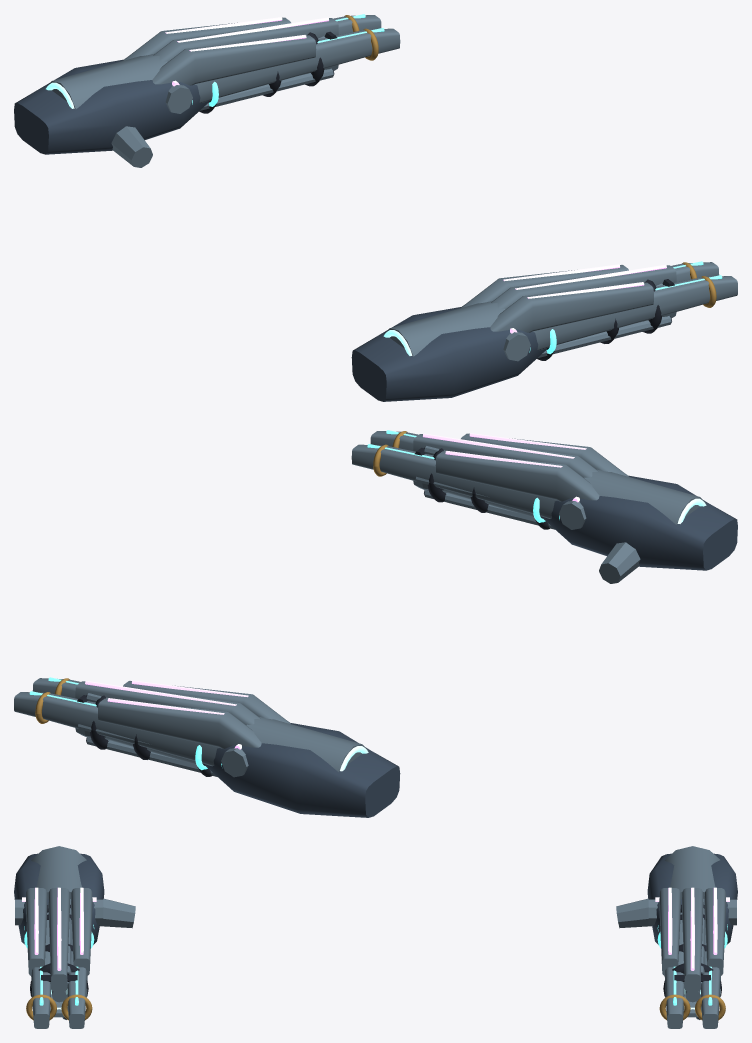
Rendered from mount.glb.
3 renders of one model, top to bottom at view 1: azimuth 30°, elevation 25°; view 2: azimuth 150°, elevation 25°; view 3: azimuth 270°, elevation 25°, orthographic. The views are drawn at different scales.
Parts seen in each view (by area): view 1: m_heavy Fitting gunmetal, m_array Brushed fitting edges, m_siege Brushed fitting edges, m_rotary Brushed fitting edges, m_array m_array emitter, m_heavy Brushed fitting edges, m_rotary Machined graphite, m_siege m_siege emitter, m_siege Champagne gold edging; view 2: m_heavy Fitting gunmetal, m_array Brushed fitting edges, m_siege Brushed fitting edges, m_rotary Brushed fitting edges, m_array m_array emitter, m_heavy Brushed fitting edges, m_rotary Machined graphite, m_siege m_siege emitter, m_siege Champagne gold edging; view 3: m_array Brushed fitting edges, m_rotary Brushed fitting edges, m_siege Brushed fitting edges, m_heavy Fitting gunmetal, m_array m_array emitter, m_heavy Brushed fitting edges, m_siege Champagne gold edging, m_siege m_siege emitter, m_rotary Machined graphite.
Part boxes in pixels (x1,y1,x2,y2): m_heavy Fitting gunmetal: (14, 59, 546, 401); m_array Brushed fitting edges: (123, 17, 676, 361); m_siege Brushed fitting edges: (195, 15, 737, 350); m_rotary Brushed fitting edges: (46, 53, 671, 357); m_array m_array emitter: (165, 17, 666, 333); m_heavy Brushed fitting edges: (111, 36, 676, 321); m_rotary Machined graphite: (263, 32, 671, 343); m_siege m_siege emitter: (192, 14, 722, 354); m_siege Champagne gold edging: (344, 15, 716, 307); m_heavy Fitting gunmetal: (205, 475, 737, 817); m_array Brushed fitting edges: (75, 433, 628, 777); m_siege Brushed fitting edges: (14, 431, 557, 766); m_rotary Brushed fitting edges: (78, 446, 705, 776); m_array m_array emitter: (85, 433, 586, 749); m_heavy Brushed fitting edges: (75, 481, 640, 764); m_rotary Machined graphite: (86, 447, 488, 759); m_siege m_siege emitter: (29, 430, 559, 770); m_siege Champagne gold edging: (35, 431, 407, 723); m_array Brushed fitting edges: (15, 888, 736, 991); m_rotary Brushed fitting edges: (31, 846, 720, 1019); m_siege Brushed fitting edges: (31, 912, 720, 1028); m_heavy Fitting gunmetal: (14, 853, 737, 944); m_array m_array emitter: (22, 887, 729, 970); m_heavy Brushed fitting edges: (50, 898, 701, 1017); m_siege Champagne gold edging: (26, 994, 725, 1020); m_siege m_siege emitter: (24, 924, 727, 1005); m_rotary Machined graphite: (30, 944, 721, 1019).
Bounding box in the file's own units: 17 × 3.72 × 32.
